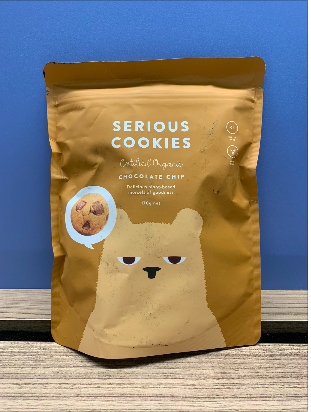Cookies_100-199g: (57, 108, 253, 322)
